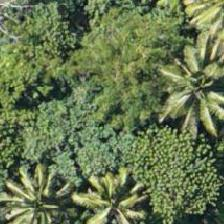coconut_tree: (69, 161, 159, 223), (0, 156, 79, 223), (167, 42, 223, 132)
